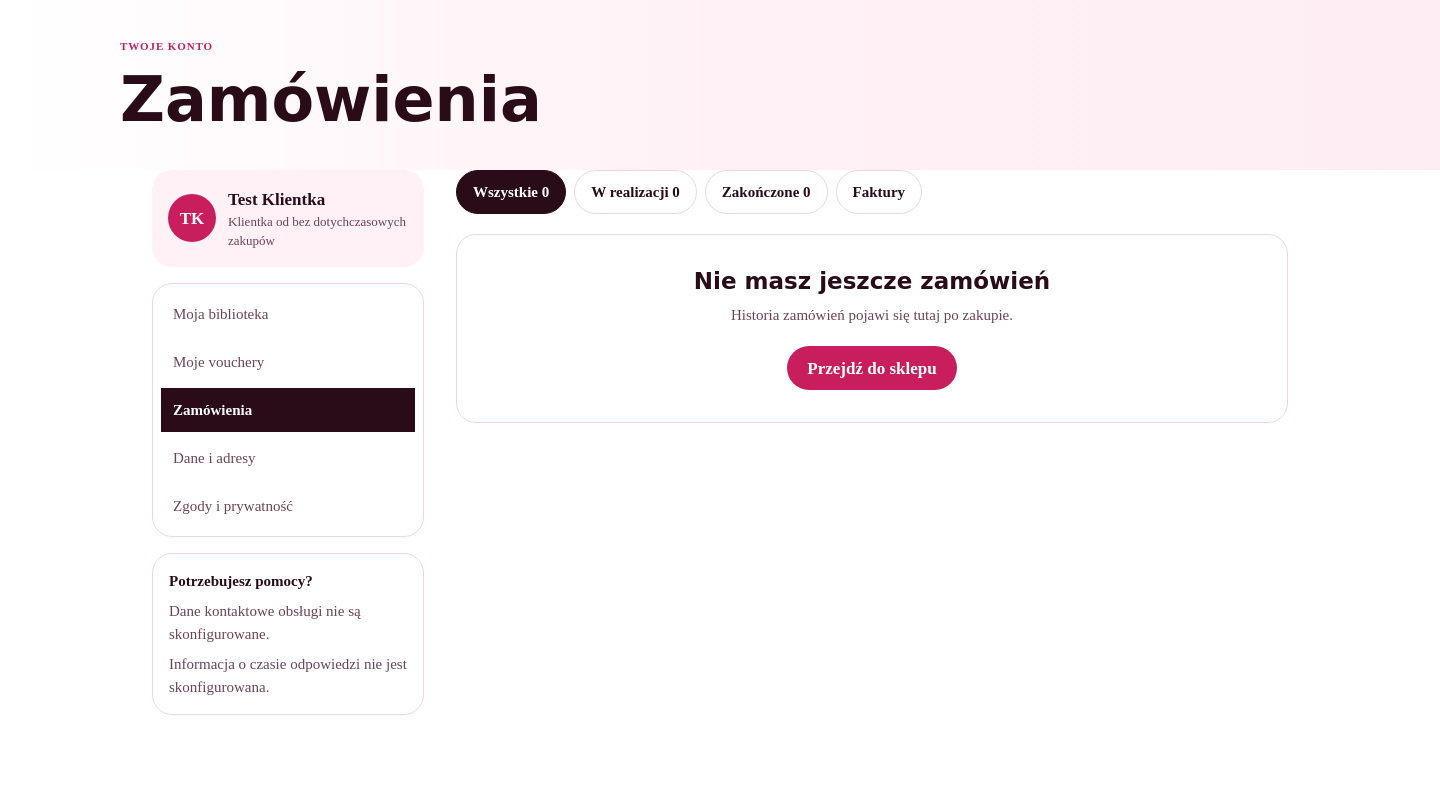
Test: MyOrdersView › shows server order-count filters and separates an empty invoice view
Check: the heading "Nie masz jeszcze zamówień" is shown, box [694, 268, 1050, 294]
Check: the button "Wszystkie 0" is shown, box [456, 170, 566, 214]
Click the button "Faktury" at (879, 192), box [836, 170, 922, 214]
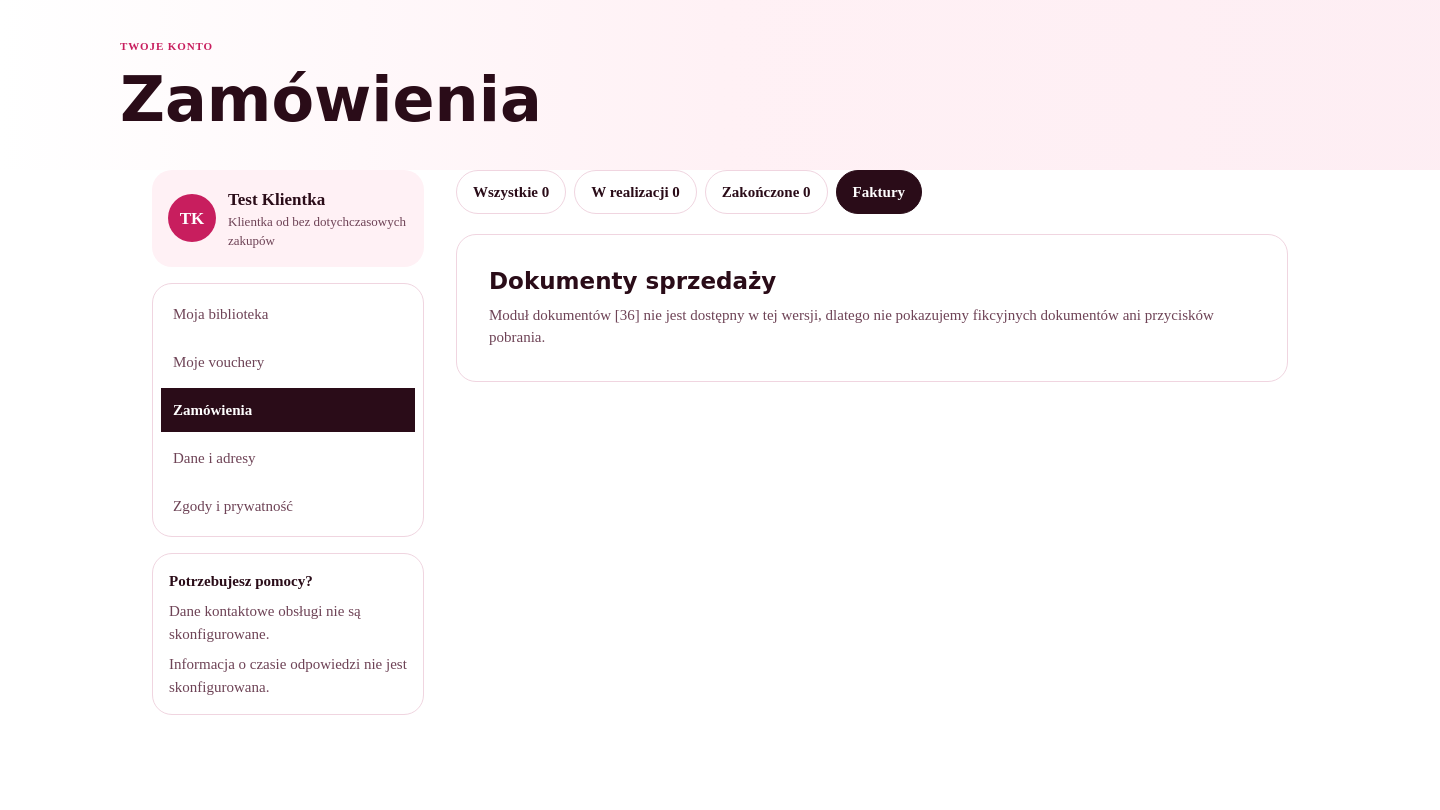
Check: the heading "Dokumenty sprzedaży" is shown, box [489, 268, 776, 294]
Check: the text "nie pokazujemy fikcyjnych dokumentów" is shown, box [489, 307, 1214, 345]
